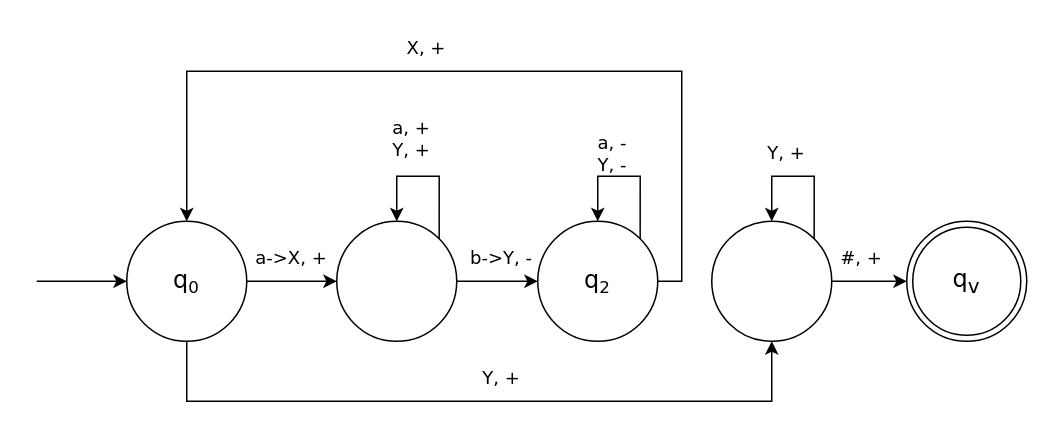
The diagram is 1053 pixels wide and 440 high, and some of its shapes have lost their labels. The box of each missing label's shape, as (x1, y1, x2, y2) in pixels:
q 1: (335, 220, 457, 341)
q 3: (710, 220, 832, 341)
